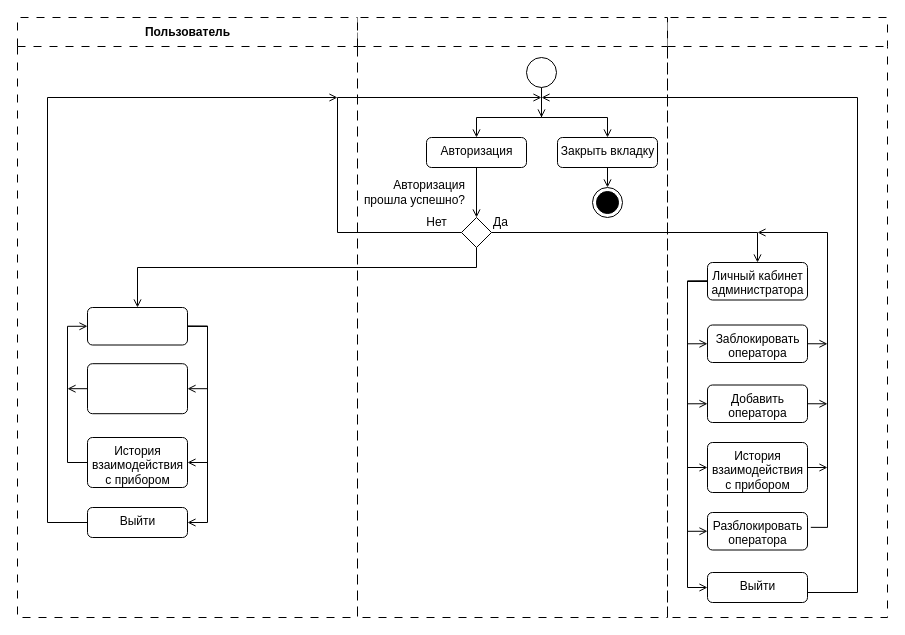
Image size: 905x635. Some labels were removed from this diagram. Each missing label, with the centre of its shape:
Администратора: point (777, 317)
Добавление исследуемого объекта: point (137, 388)
Личный кабинет пользователя: point (137, 325)
Общий функционал: point (512, 317)
